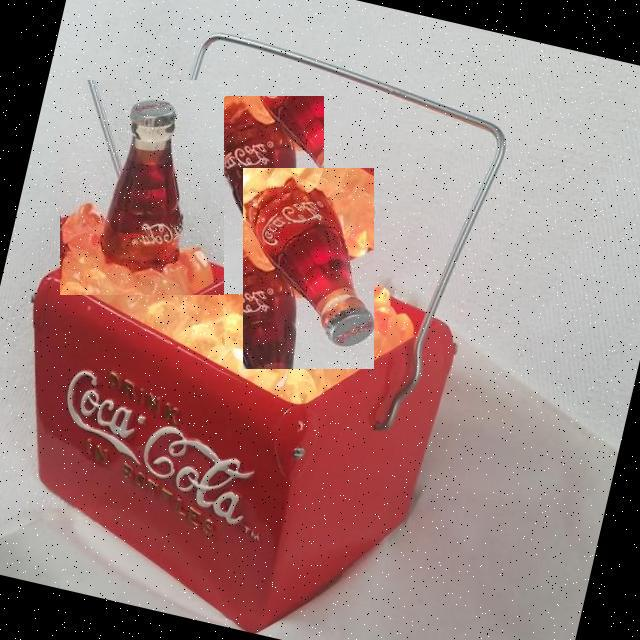coca-cola: (60, 80, 224, 295), (243, 168, 374, 369), (202, 96, 324, 294)
